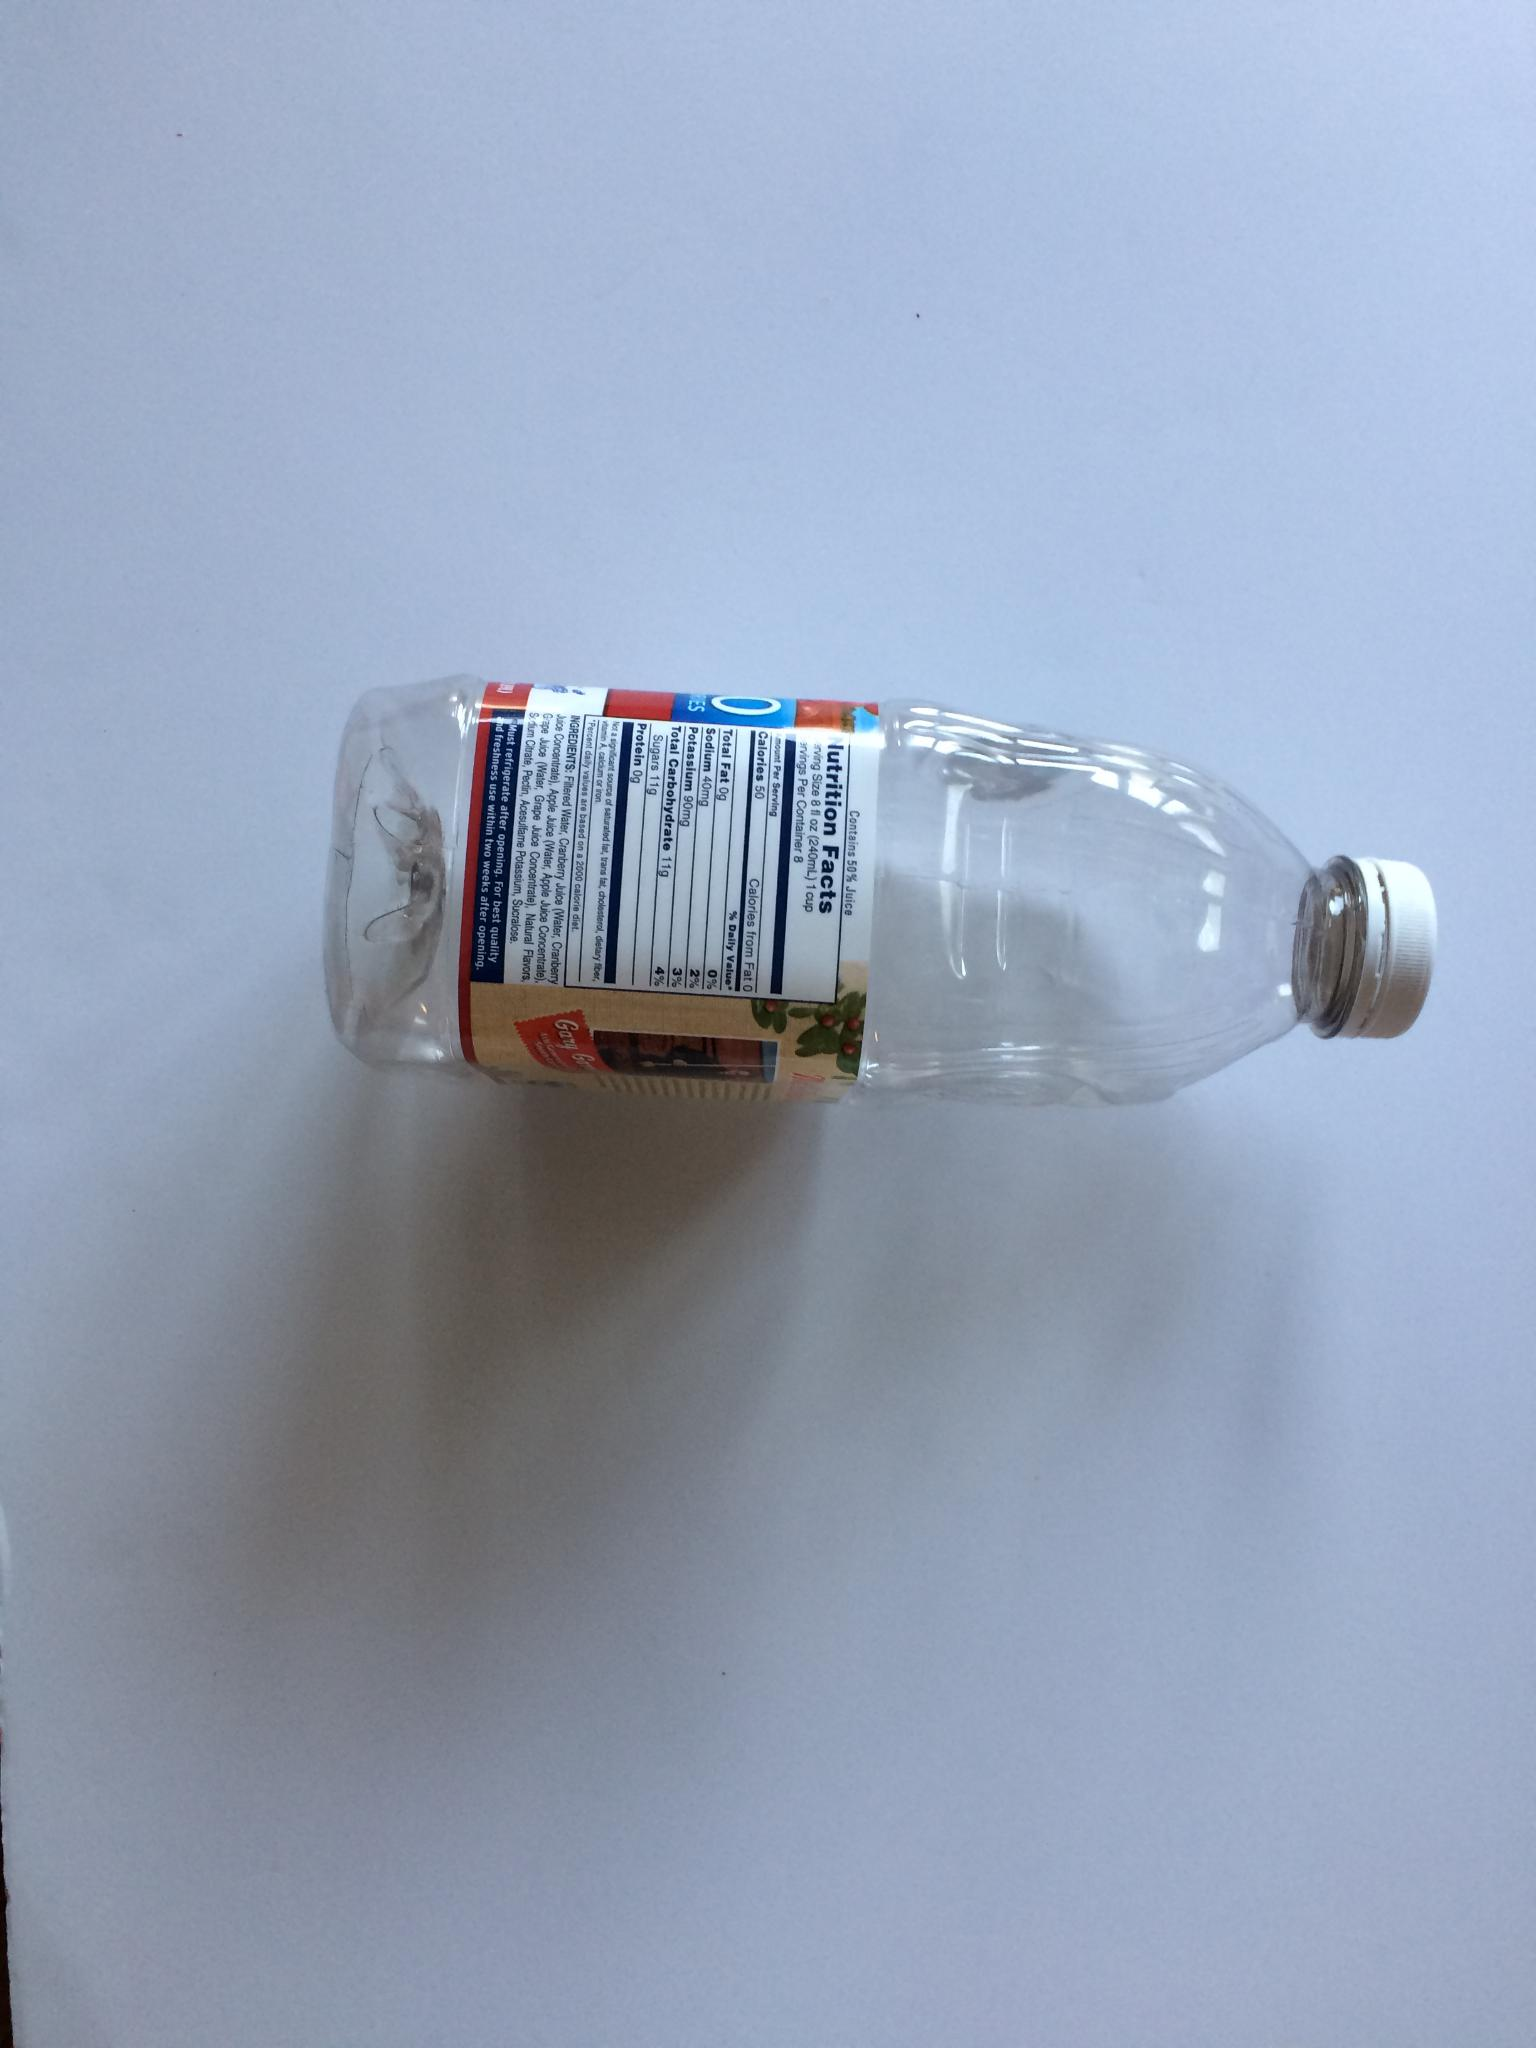Plastic: (314, 665, 1446, 1131)
